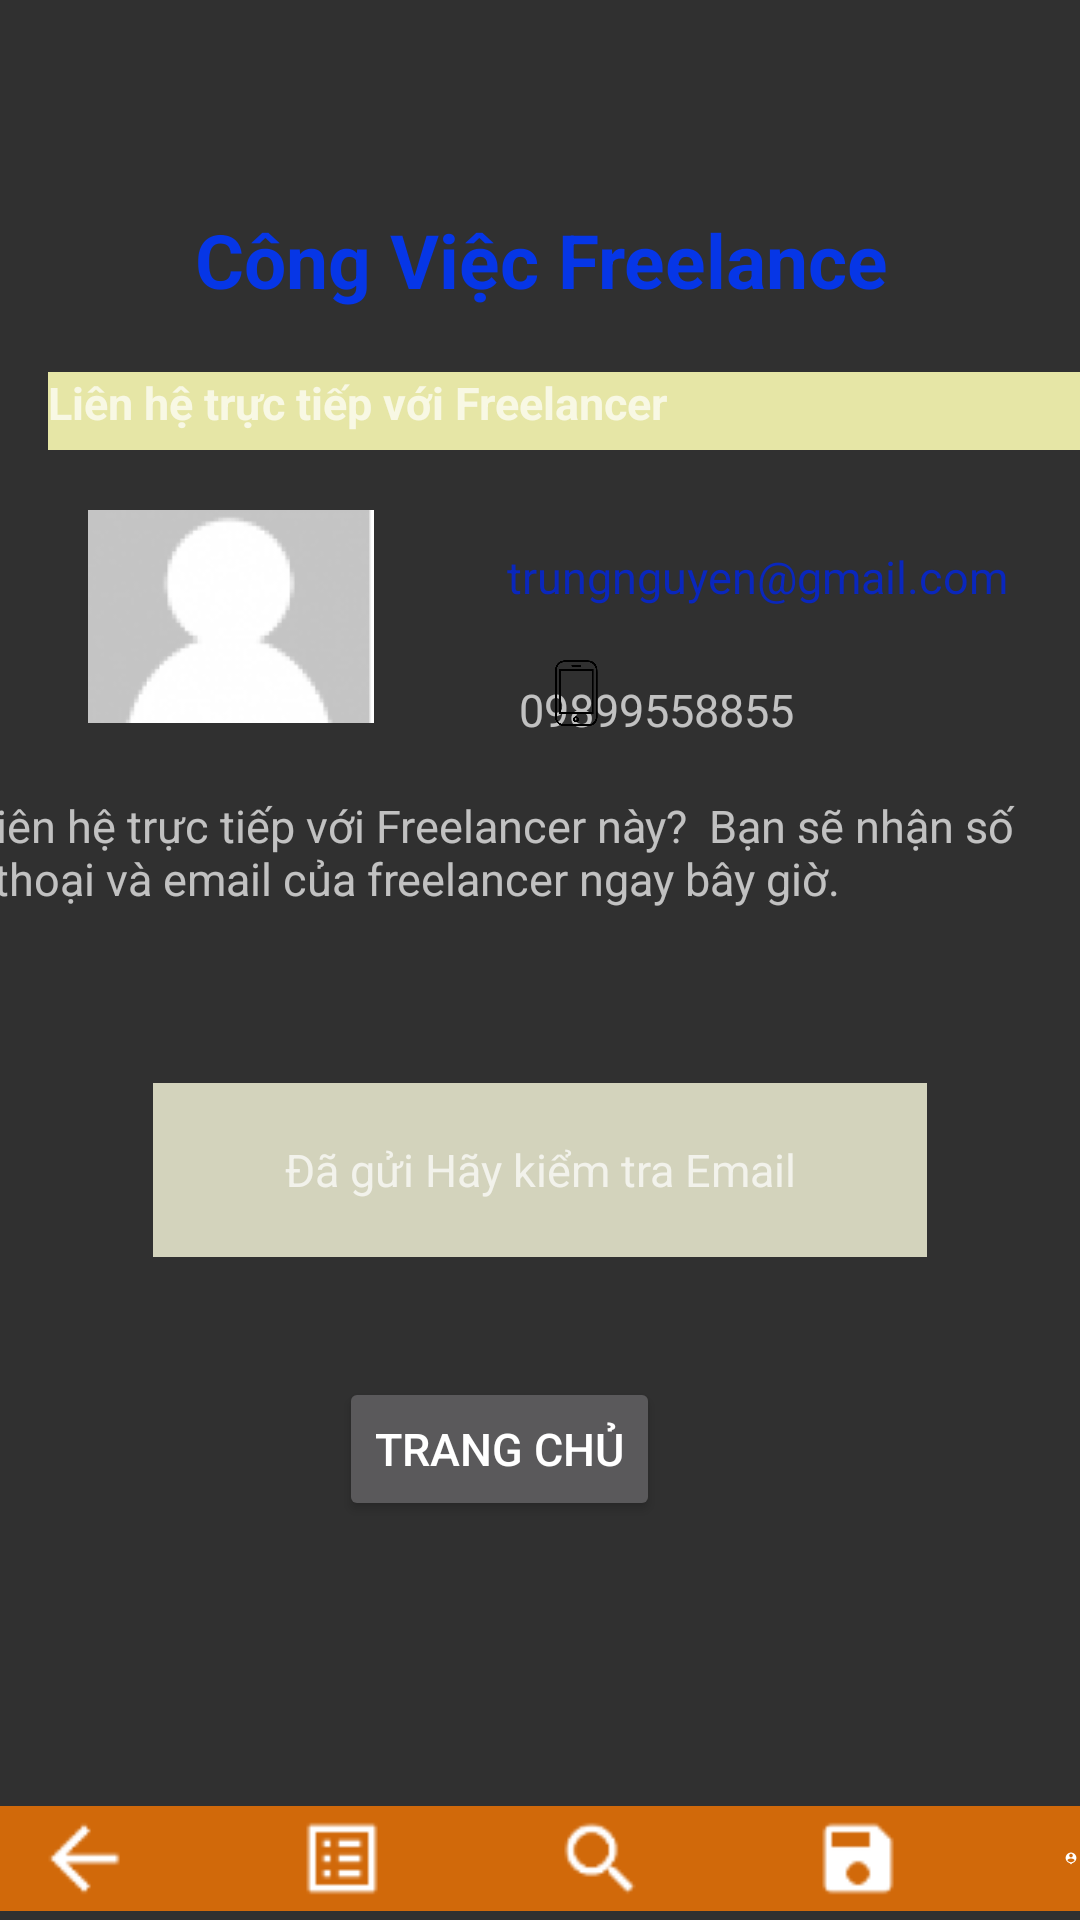

Where to tap for icons on this 1080 × 1920 app screen, as (x,y):
imgback: (85,1858)
imglist: (342,1858)
imgsave: (858,1858)
imgsearch: (599,1858)
